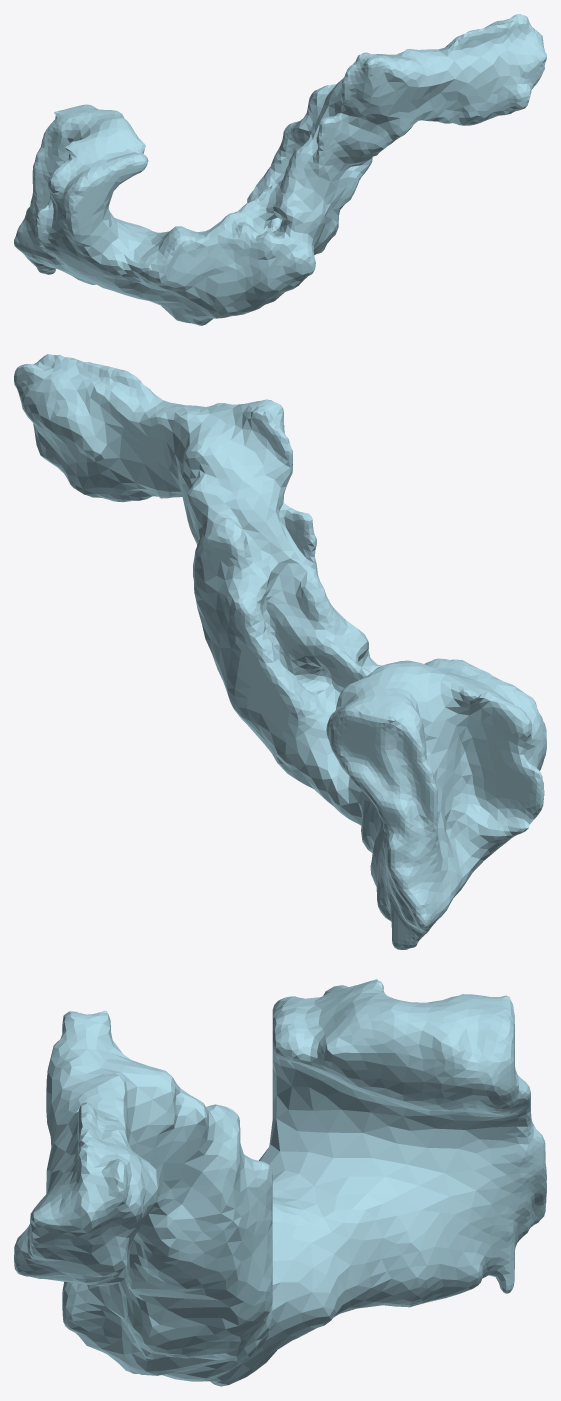
The model's file is pancreas.obj.
The picture shows the model from 3 angles, top to bottom: view 1: azimuth 30°, elevation 25°; view 2: azimuth 150°, elevation 25°; view 3: azimuth 270°, elevation 25°; orthographic projection. The views are drawn at different scales.
Parts seen in each view (by area): view 1: grp1; view 2: grp1; view 3: grp1.
Boxes of the visible parts, x1,y1,x2,y2 form: grp1: (14,14,546,325); grp1: (14,354,546,949); grp1: (14,978,546,1386).
Bounding box in the file's own units: 117 × 67.16 × 65.98.
